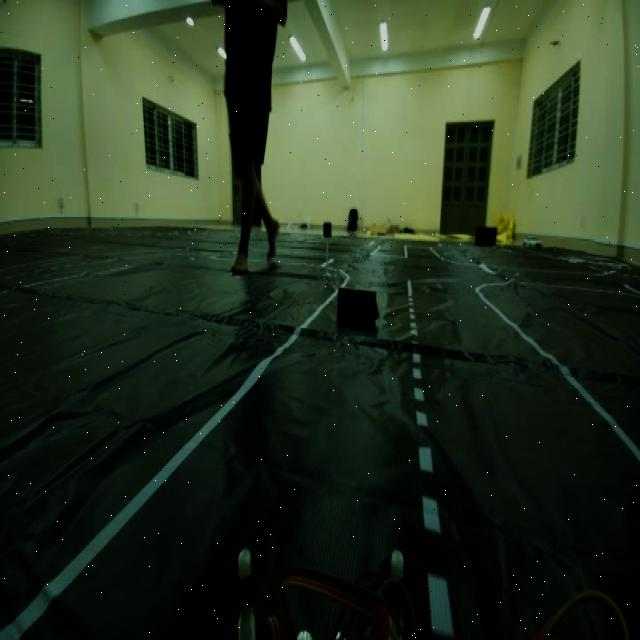roadblock: (333, 276, 384, 338)
